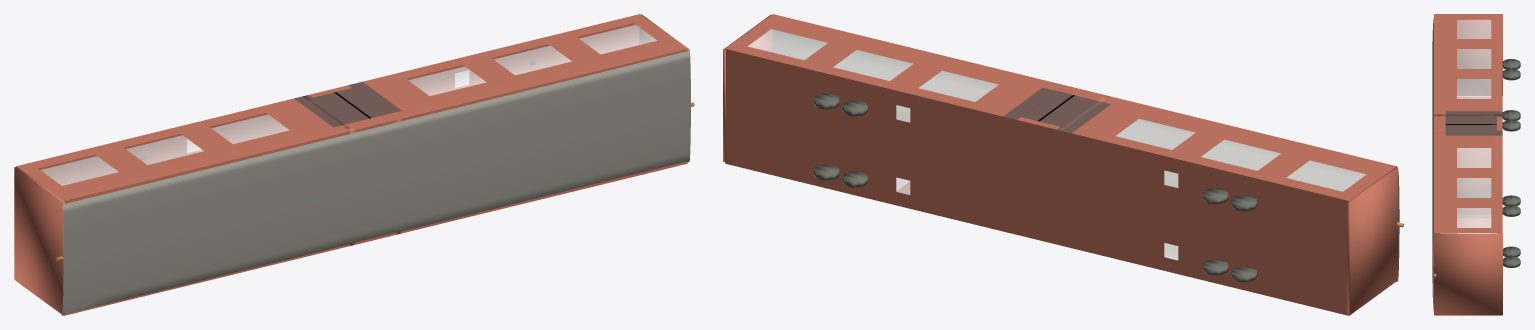
Rendered from asset19.glb.
3 views of the same model, side by side, from view 1: azimuth 30°, elevation 25°; view 2: azimuth 150°, elevation 25°; view 3: azimuth 270°, elevation 25° (orthographic). The views are drawn at different scales.
Visible parts, largest first — view 1: Cylinder2, Cube1_copy12, Cube1_copy23, Cube16, Cube19_copy18, Cube1_copy27; view 2: Cube1_copy23, Cube1_copy12, Cube16, Cylinder2, Cube1_copy27, Cube19_copy18, Cube19_copy25; view 3: Cube19_copy25, Cube1_copy23, Cube1_copy12, Cube16, Cube1_copy27, Cube19_copy18, Cylinder2, Cylinder4_copy8, Cylinder4_copy20, Cylinder4_copy9, Cylinder4, Cylinder4_copy22 (+3 smaller).
Boxes of the visible parts, left/top/right/bottom form: Cylinder2: left=60, top=51, right=690, bottom=315; Cube1_copy12: left=16, top=95, right=350, bottom=315; Cube1_copy23: left=348, top=14, right=687, bottom=233; Cube16: left=40, top=24, right=656, bottom=185; Cube19_copy18: left=14, top=167, right=65, bottom=314; Cube1_copy27: left=303, top=85, right=400, bottom=245; Cube1_copy23: left=725, top=14, right=1064, bottom=234; Cube1_copy12: left=1057, top=96, right=1396, bottom=315; Cube16: left=748, top=29, right=1366, bottom=260; Cylinder2: left=772, top=30, right=1399, bottom=281; Cube1_copy27: left=1017, top=85, right=1109, bottom=244; Cube19_copy18: left=1347, top=167, right=1398, bottom=314; Cube19_copy25: left=723, top=14, right=772, bottom=162; Cube19_copy25: left=1434, top=233, right=1502, bottom=315; Cube1_copy23: left=1434, top=130, right=1502, bottom=315; Cube1_copy12: left=1434, top=14, right=1502, bottom=116; Cube16: left=1440, top=20, right=1497, bottom=233; Cube1_copy27: left=1434, top=114, right=1502, bottom=214; Cube19_copy18: left=1457, top=14, right=1502, bottom=95; Cylinder2: left=1432, top=17, right=1436, bottom=315; Cylinder4_copy8: left=1502, top=120, right=1520, bottom=131; Cylinder4_copy20: left=1502, top=205, right=1520, bottom=216; Cylinder4_copy9: left=1502, top=69, right=1520, bottom=80; Cylinder4: left=1502, top=110, right=1520, bottom=120; Cylinder4_copy22: left=1502, top=195, right=1520, bottom=205.
Bounding box in the file's own units: 1 × 0.1727 × 0.1667.
